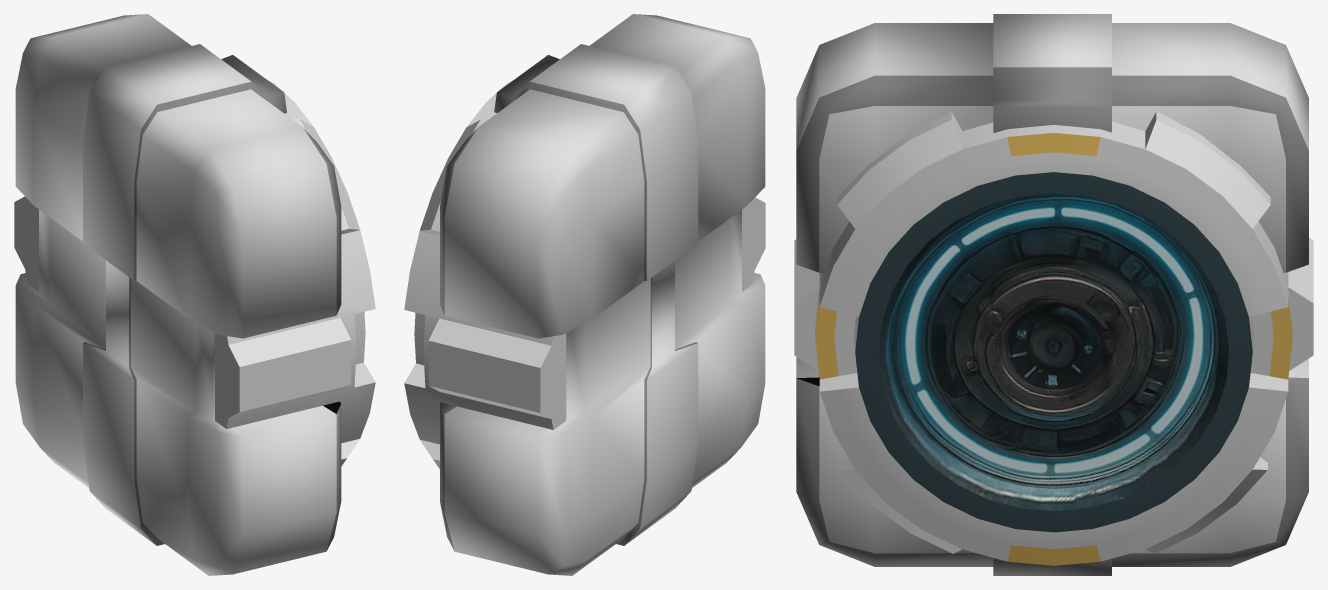
File: CapstoneSpaceshipINSIDE_air_Fixunder.fbx
The picture shows the model from 3 angles, left to right: view 1: azimuth 30°, elevation 25°; view 2: azimuth 150°, elevation 25°; view 3: azimuth 270°, elevation 25°; orthographic projection. The views are drawn at different scales.
Visible parts, largest first — view 1: Cube, Circle.003; view 2: Cube, Circle.003; view 3: Circle.003, Cube, Circle.017.
Part boxes in pixels (x1,y1,x2,y2): Cube: [15, 14, 341, 575]; Circle.003: [14, 79, 375, 466]; Cube: [440, 14, 765, 575]; Circle.003: [404, 80, 765, 468]; Circle.003: [794, 111, 1313, 565]; Cube: [796, 14, 1308, 575]; Circle.017: [927, 228, 1180, 458].
Size of the model in its own units: 40.66 by 100 by 92.6.
